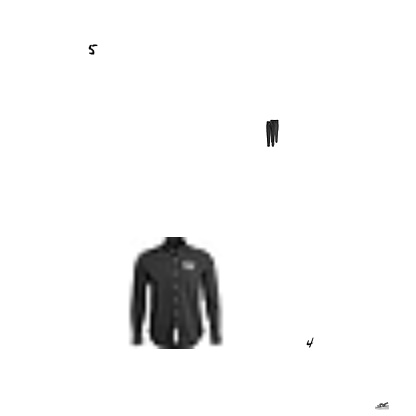4: (303, 336, 317, 350)
5: (85, 42, 99, 56)
Sandal: (375, 399, 389, 413)
Shirt: (118, 237, 230, 349)
Trouser: (258, 119, 286, 147)
